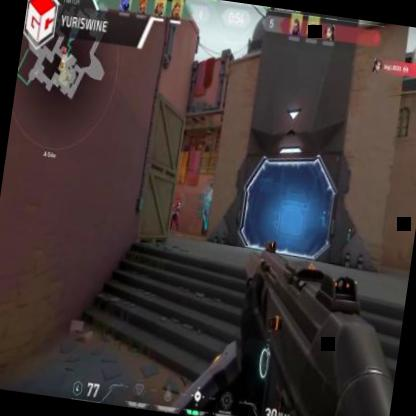enemy: (168, 195, 182, 232)
enemy_head: (176, 196, 180, 202)
